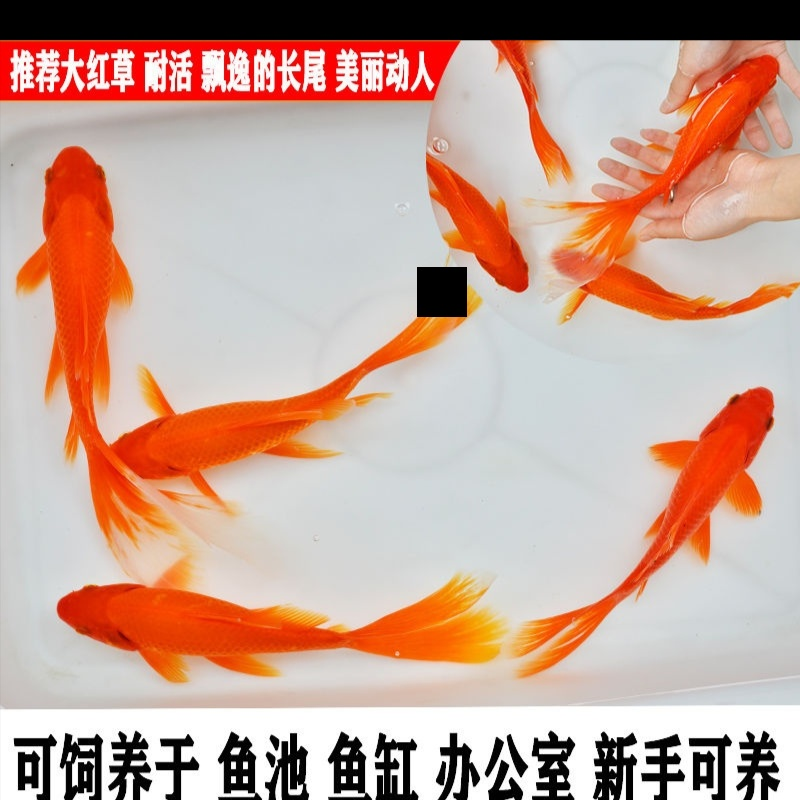fry: (530, 343, 787, 661), (118, 314, 442, 509), (12, 553, 463, 687), (12, 124, 143, 430), (579, 56, 791, 244), (548, 234, 797, 339), (417, 146, 538, 308), (487, 46, 588, 187)
